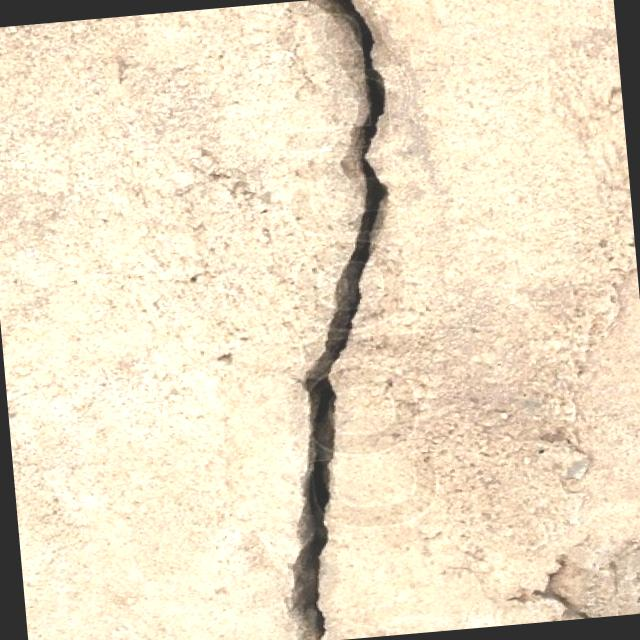crack: (227, 0, 432, 640)
